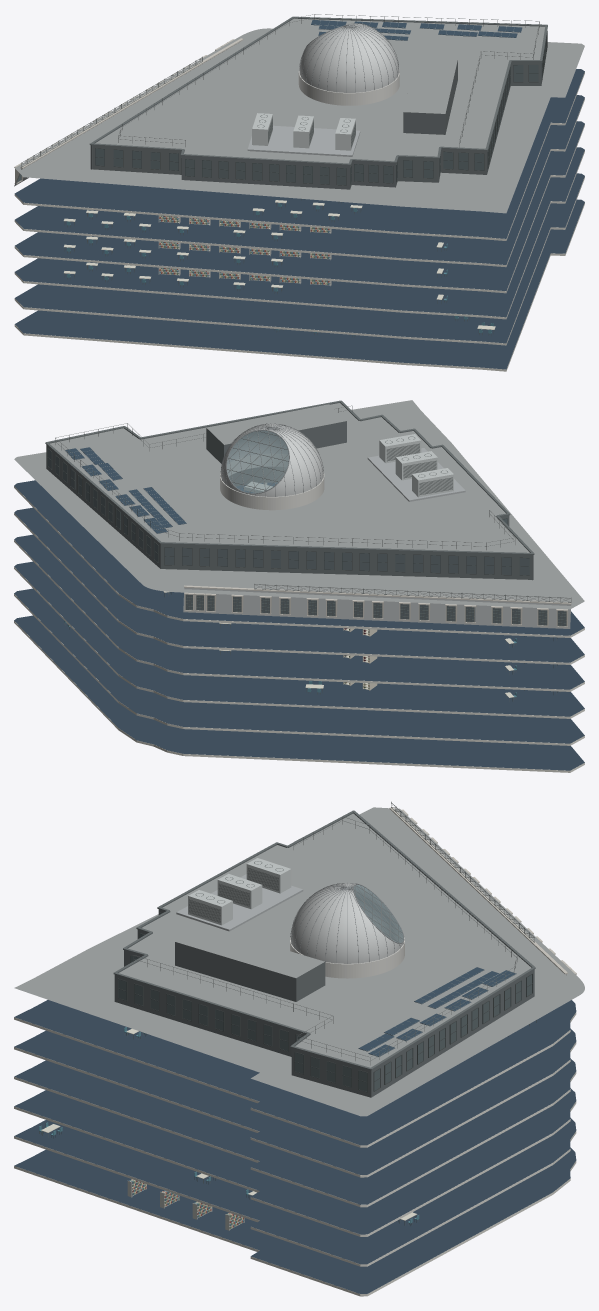
Rendered from lrb-interior-fb4688dec53e.glb.
3 views of the same model, one above another, from view 1: azimuth 30°, elevation 25°; view 2: azimuth 150°, elevation 25°; view 3: azimuth 270°, elevation 25° (orthographic). The views are drawn at different scales.
Visible parts, largest first — view 1: LRB.001; view 2: LRB.001; view 3: LRB.001.
Boxes of the visible parts, box(x1,y1,x2,y2) form: LRB.001: box(14, 14, 584, 371); LRB.001: box(14, 400, 584, 772); LRB.001: box(14, 801, 584, 1296).
Size of the model in its own units: 89.08 by 36.89 by 69.59.
